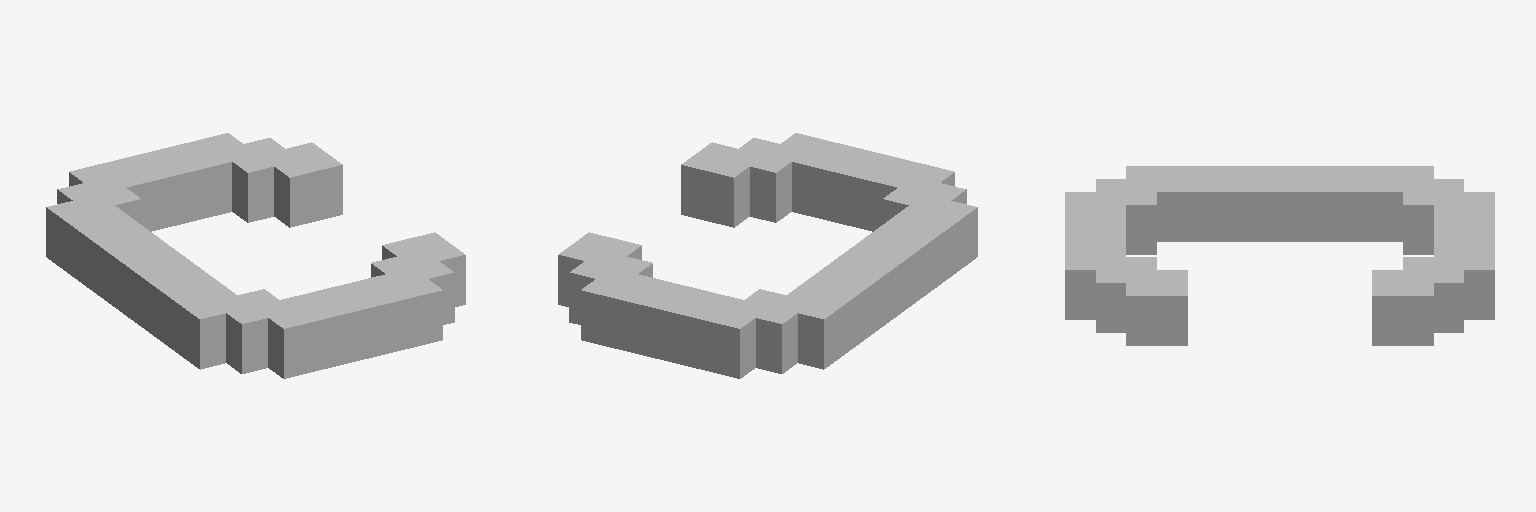
File: cpp.obj
3 renders of one model, left to right at view 1: azimuth 30°, elevation 25°; view 2: azimuth 150°, elevation 25°; view 3: azimuth 270°, elevation 25°, orthographic.
Parts seen in each view (by area): view 1: Text; view 2: Text; view 3: Text.
Boxes of the visible parts, box(x1,y1,x2,y2) form: Text: box(46, 133, 465, 378); Text: box(558, 133, 977, 378); Text: box(1065, 166, 1494, 345).
Size of the model in its own units: 0.5556 by 0.1 by 0.7778.